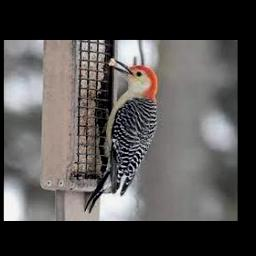Woodpecker: (84, 59, 157, 213)
